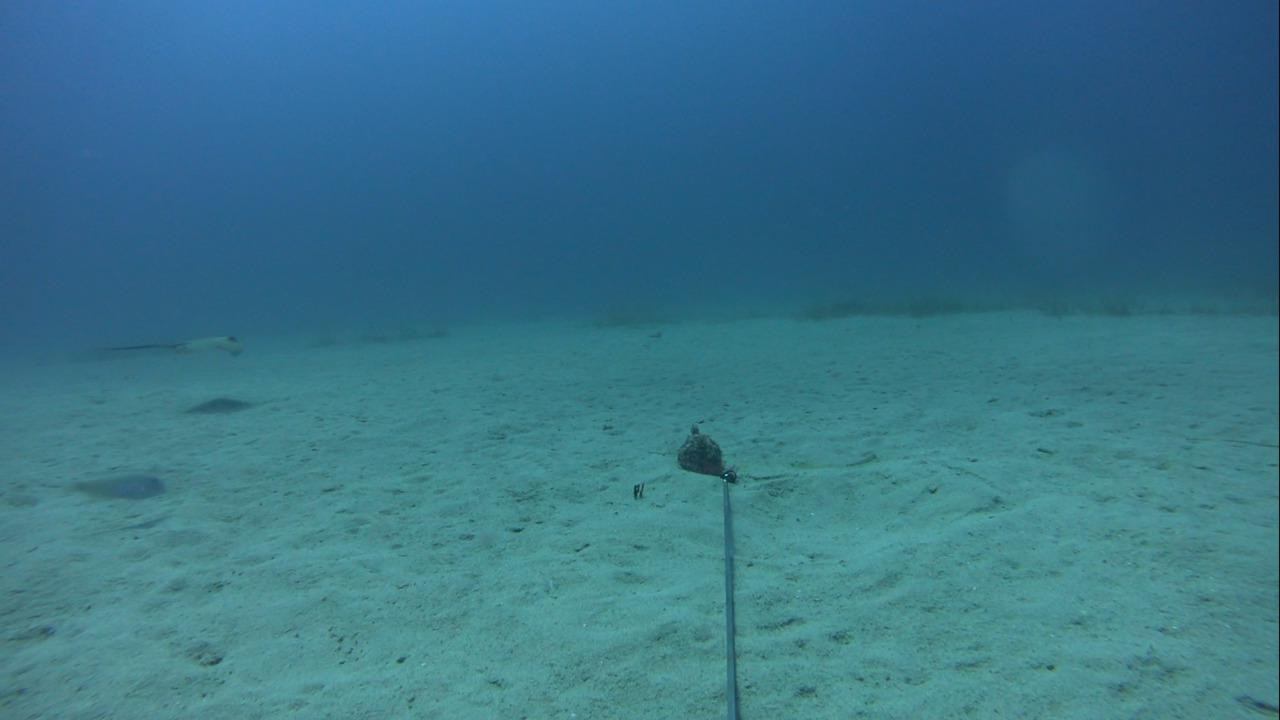myliobatis: (91, 328, 252, 363)
raor: (52, 465, 170, 511)
